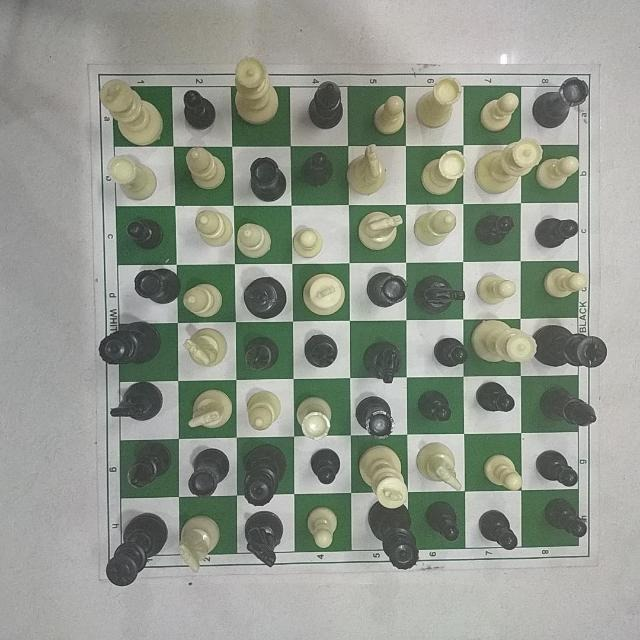black-bishop: (41, 209, 105, 254), (468, 149, 516, 201), (296, 507, 336, 565), (359, 266, 400, 304), (299, 270, 339, 308)
black-king: (472, 52, 535, 128), (29, 269, 103, 321), (351, 321, 400, 367)
black-knight: (474, 216, 530, 262), (235, 254, 283, 304), (356, 73, 398, 129), (174, 324, 226, 366)
black-pawn: (49, 98, 97, 141), (121, 87, 165, 133), (178, 96, 220, 142), (59, 150, 107, 190), (421, 508, 461, 554), (123, 223, 170, 258), (59, 389, 104, 425), (475, 389, 517, 425), (305, 448, 341, 490), (297, 155, 333, 195), (186, 216, 226, 252), (125, 393, 165, 428), (170, 270, 209, 304)
black-queen: (223, 65, 277, 134), (477, 274, 544, 318), (353, 133, 401, 194)
black-rook: (50, 510, 110, 565), (410, 140, 455, 194), (352, 436, 395, 486), (463, 334, 509, 380), (243, 201, 287, 247), (229, 331, 277, 371)
white-bishop: (413, 449, 457, 497), (415, 319, 458, 365), (178, 391, 225, 430), (365, 380, 407, 422), (354, 207, 395, 250), (409, 389, 447, 432)
white-king: (476, 493, 543, 565), (229, 131, 285, 197), (292, 324, 342, 368)
white-knight: (414, 65, 466, 129), (175, 147, 227, 199), (235, 386, 284, 434), (406, 206, 453, 254), (411, 269, 461, 314), (252, 443, 294, 495)
white-pawn: (117, 507, 163, 551), (50, 338, 102, 375), (298, 87, 336, 135), (115, 147, 161, 185), (232, 502, 271, 545), (121, 332, 167, 368), (60, 448, 97, 488), (315, 380, 349, 413)
white-queen: (356, 513, 410, 585), (101, 446, 166, 502), (106, 269, 166, 323)
white-rook: (478, 436, 535, 488), (177, 512, 224, 568), (174, 444, 224, 492), (304, 197, 346, 245)
